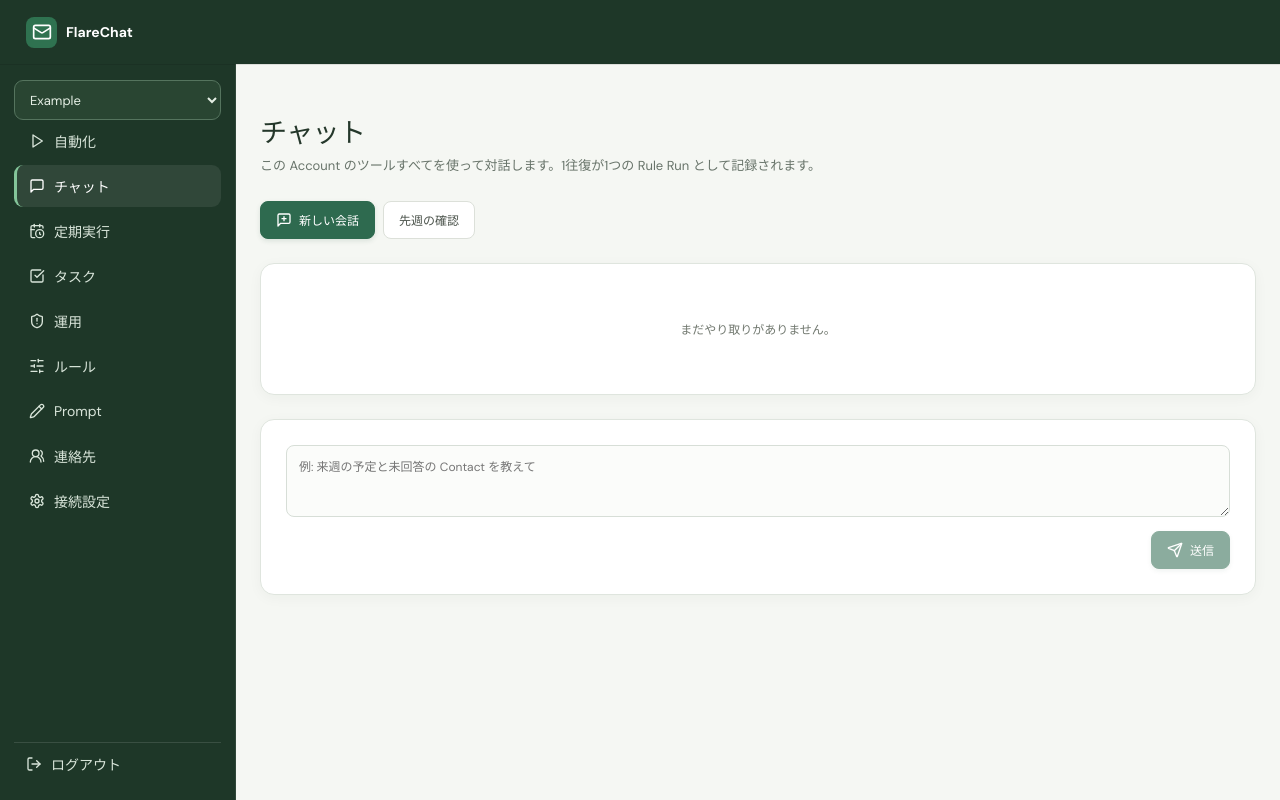
Test: Chat screen › sends a message as one exchange and shows the reply
Expected: the button "先週の確認" is shown, [383, 200, 475, 238]
Type "来週の予定は?" into the text box named "メッセージ" at (758, 480), box [286, 444, 1230, 516]
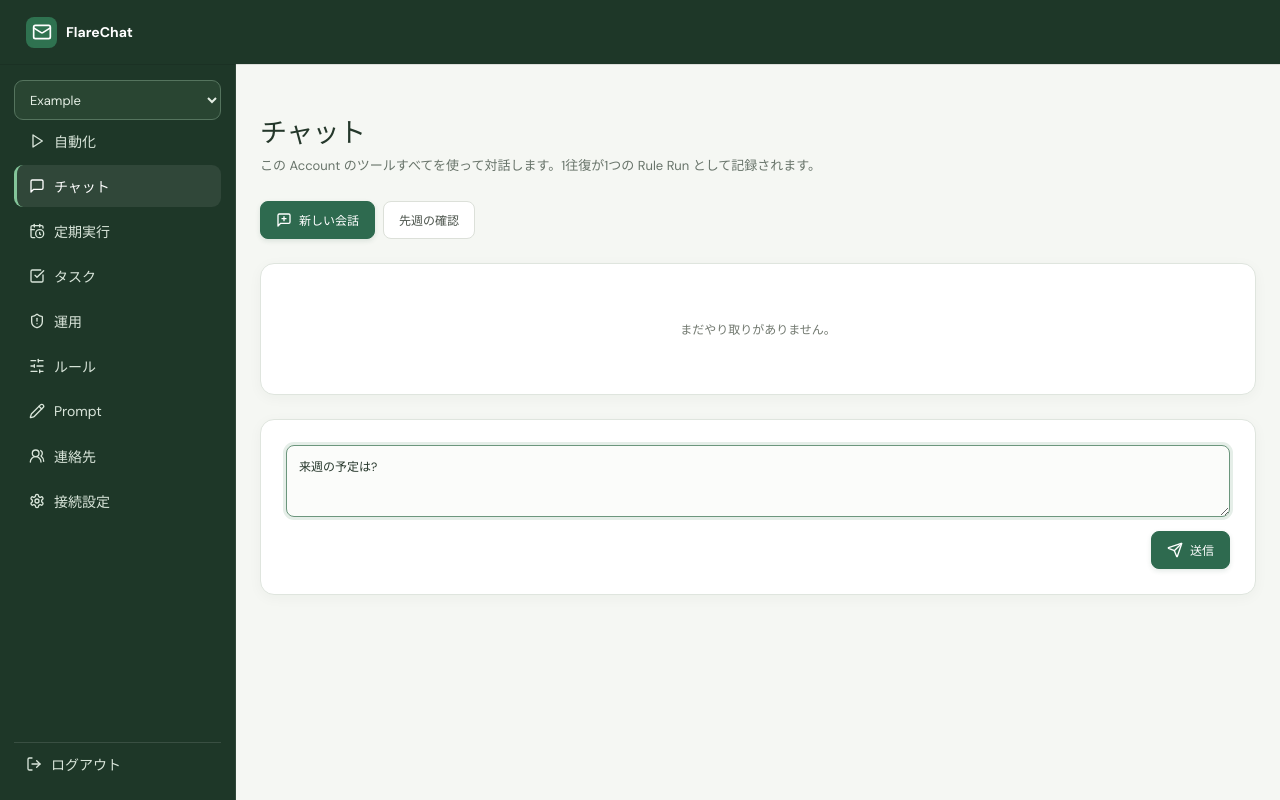
Click the button "送信" at (1190, 550), box [1151, 530, 1230, 568]
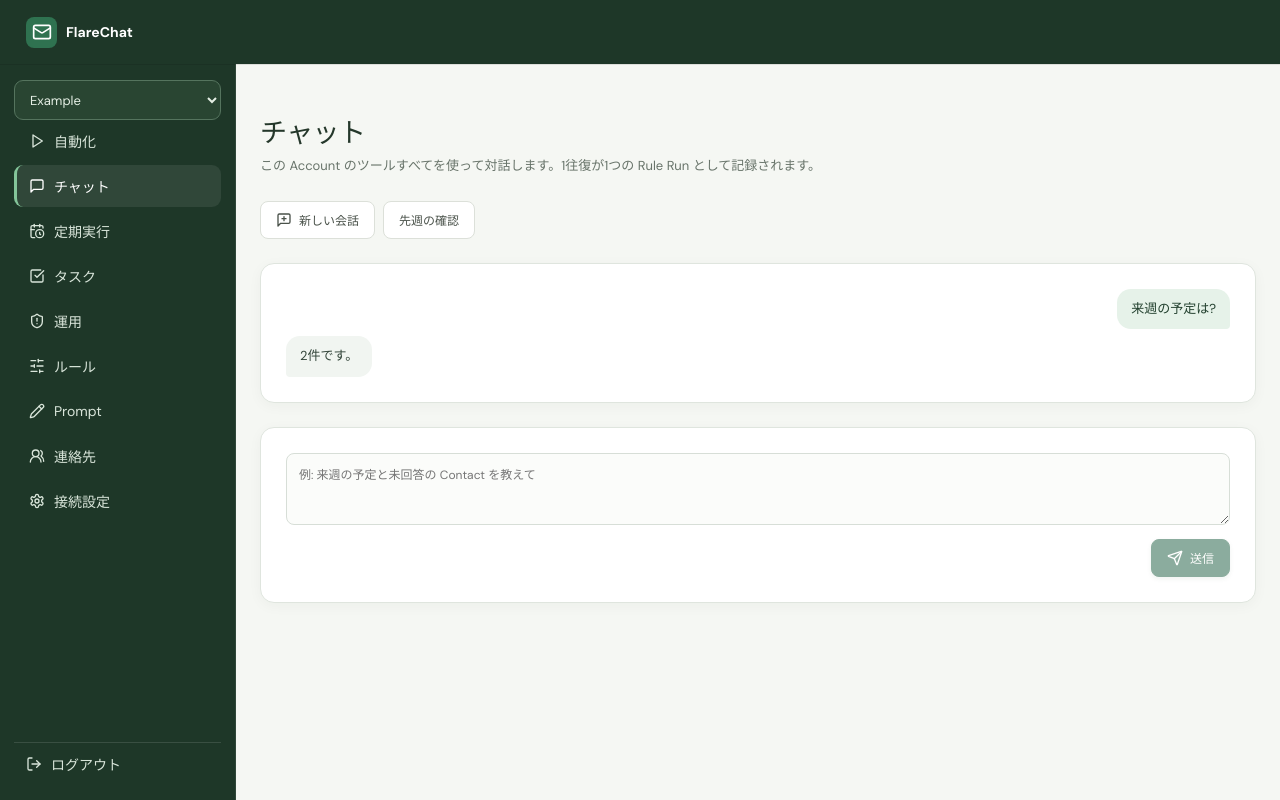
Result: the text "2件です。" is shown at [286, 336, 372, 377]
